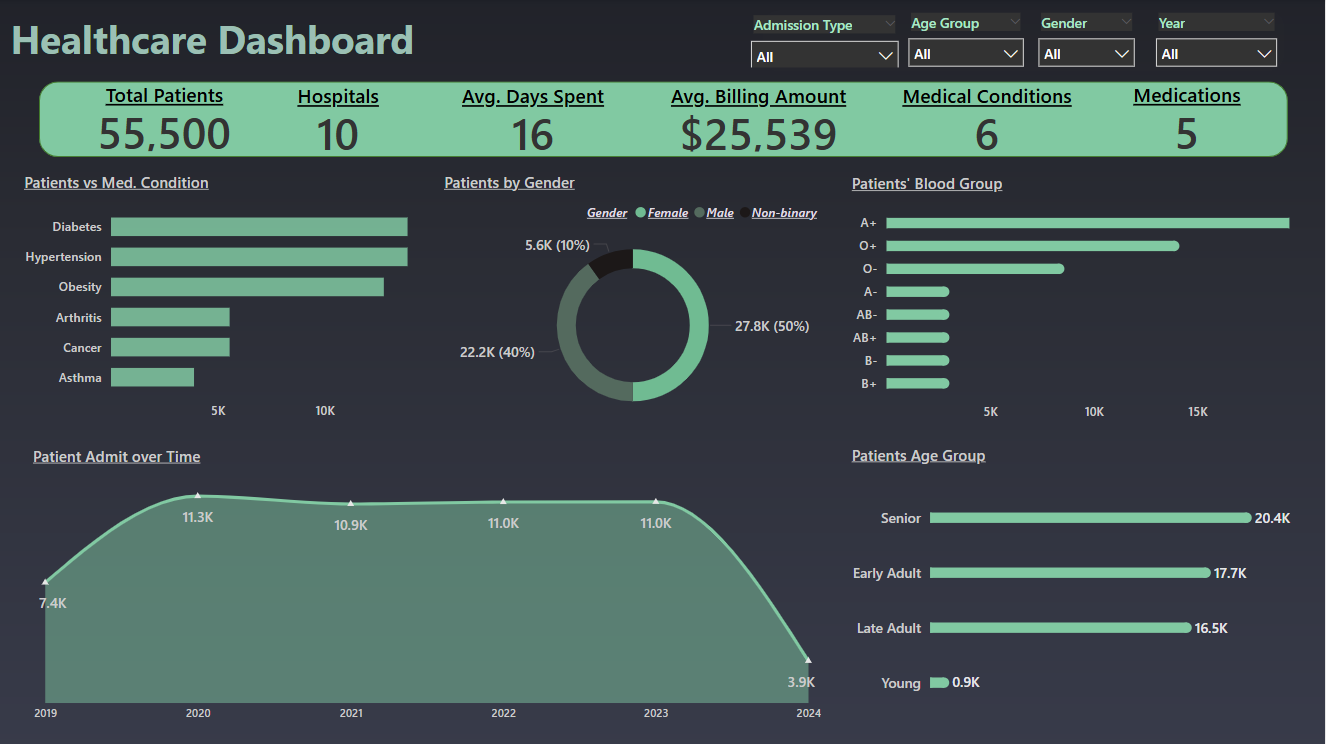

This screenshot's page, from the dashboard's own definition file:
{"tool":"powerbi","page":{"name":"Page 1","canvas":[1280,720],"ordinal":1},"visuals":[{"type":"shape","box":[38.6,80,1205.2,73],"z":5500},{"type":"shape","box":[737.1,10.9,503.1,59.1],"z":6000},{"type":"barChart","title":"Patients Age Group","fields":{"Y":["CountNonNull(Data.Patient ID)"],"Category":["Data.Age Group"]},"box":[817.5,430,442.5,276.2],"z":7000},{"type":"donutChart","title":"Patients by Gender","fields":{"Category":["Data.Gender"],"Y":["CountNonNull(Data.Patient ID)"]},"box":[423.8,167.5,372.5,248.8],"z":8000},{"type":"barChart","title":"Patients vs Med. Condition","fields":{"Category":["Data.Medical Condition"],"Y":["CountNonNull(Data.Patient ID)"]},"box":[14.7,153.3,404,248],"z":9000},{"type":"slicer","fields":{"Values":["Data.Gender"]},"box":[992.9,8.2,113.4,57.9],"z":10000},{"type":"slicer","fields":{"Values":["Data.Age Group"]},"box":[867.4,8.2,131.5,57.9],"z":11000},{"type":"areaChart","title":"Patient Admit over Time","fields":{"Y":["Count(Data.Patient ID)"],"Category":["DateTable.Date.Variation.Date Hierarchy.Year","DateTable.Date.Variation.Date Hierarchy.Quarter","DateTable.Date.Variation.Date Hierarchy.Month","DateTable.Date.Variation.Date Hierarchy.Day"]},"box":[28,430.7,770.7,276],"z":12000},{"type":"slicer","fields":{"Values":["DateTable.Year"]},"box":[1106.3,8.2,137.5,57.9],"z":13000},{"type":"slicer","fields":{"Values":["Data.Admission Type"]},"box":[715.4,10.9,162.9,55.5],"z":14000},{"type":"textbox","box":[6.2,8.8,418.8,61.2],"z":15000},{"type":"card","title":"Medical Conditions","fields":{"Values":["Count(Data.Medical Condition)"]},"box":[847.1,80.5,213.4,71.6],"z":16000},{"type":"card","title":"Medications","fields":{"Values":["Count(Data.Medication)"]},"box":[1053.3,80,186.7,72],"z":17000},{"type":"card","title":"Total Patients","fields":{"Values":["CountNonNull(Data.Patient ID)"]},"box":[60,80,198.7,72],"z":19000},{"type":"card","title":"Avg. Days Spent","fields":{"Values":["Avg(Data.DaysSpent)"]},"box":[412.7,80.5,205.7,71.6],"z":20000},{"type":"card","title":"Avg. Billing Amount","fields":{"Values":["Avg(Data.Billing Amount)"]},"box":[621,80.5,223.6,71.6],"z":21000},{"type":"card","title":"Hospitals","fields":{"Values":["Count(Data.Hospital)"]},"box":[245.3,80.5,164.8,71.6],"z":22000},{"type":"barChart","title":"Patients'' Blood Group","fields":{"Category":["Data.Blood Type"],"Y":["Count(Data.Patient ID)"]},"box":[817.5,167.5,442.5,248.8],"z":28000}]}

Visuals, with their boxes in screenshot pixels (x1, y1, x2, y2), scaled from the page's 1280x720 canvas onto the 1326x744 screenshot:
shape: 40, 83, 1288, 158
shape: 764, 11, 1285, 72
"Patients Age Group" barChart: 847, 444, 1305, 730
"Patients by Gender" donutChart: 439, 173, 825, 430
"Patients vs Med. Condition" barChart: 15, 158, 434, 415
slicer - Data.Gender: 1029, 8, 1146, 68
slicer - Data.Age Group: 899, 8, 1035, 68
"Patient Admit over Time" areaChart: 29, 445, 827, 730
slicer - DateTable.Year: 1146, 8, 1288, 68
slicer - Data.Admission Type: 741, 11, 910, 69
textbox: 6, 9, 440, 72
"Medical Conditions" card: 878, 83, 1099, 157
"Medications" card: 1091, 83, 1285, 157
"Total Patients" card: 62, 83, 268, 157
"Avg. Days Spent" card: 428, 83, 641, 157
"Avg. Billing Amount" card: 643, 83, 875, 157
"Hospitals" card: 254, 83, 425, 157
"Patients'' Blood Group" barChart: 847, 173, 1305, 430
